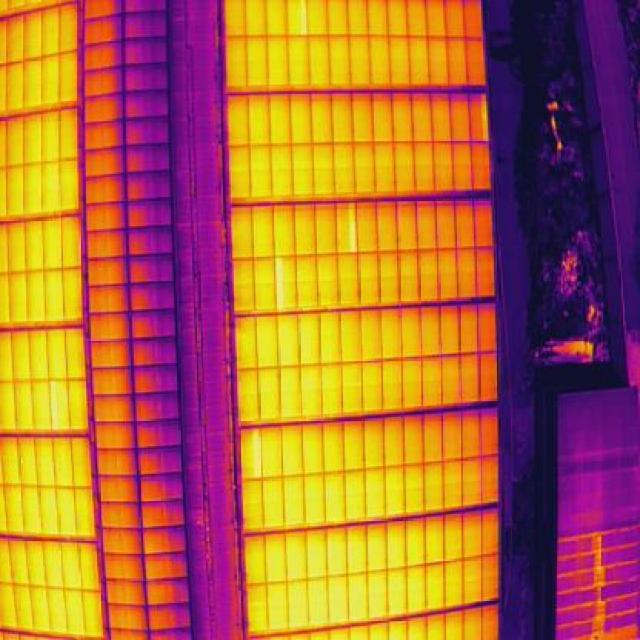panel: (242, 31, 273, 98), (219, 33, 251, 97), (262, 32, 294, 96), (284, 31, 314, 95), (303, 32, 333, 96), (325, 32, 355, 96), (344, 32, 374, 96), (365, 32, 395, 96), (384, 31, 414, 95), (404, 33, 434, 97), (271, 253, 301, 315), (293, 253, 323, 315), (234, 365, 262, 430), (255, 364, 283, 429), (277, 362, 305, 427), (298, 362, 326, 427), (355, 250, 385, 310), (334, 251, 363, 313), (425, 33, 453, 97), (226, 144, 254, 208), (247, 142, 275, 206), (268, 142, 296, 206), (288, 142, 316, 206), (310, 140, 338, 204), (330, 141, 358, 205), (350, 140, 378, 204), (371, 139, 399, 203), (132, 390, 183, 425), (131, 361, 182, 396), (84, 365, 135, 400), (130, 333, 181, 368), (85, 338, 136, 373), (128, 308, 179, 343), (83, 309, 134, 344), (127, 278, 178, 313), (80, 283, 131, 318), (228, 258, 258, 317), (249, 257, 279, 316), (58, 211, 87, 272), (442, 34, 471, 95), (56, 156, 84, 219), (391, 138, 419, 201), (411, 140, 439, 203), (22, 267, 49, 331), (462, 36, 490, 97), (314, 252, 342, 313), (318, 362, 346, 423), (339, 360, 367, 421), (359, 359, 387, 420), (102, 601, 152, 635), (146, 599, 196, 633), (143, 577, 193, 611), (431, 139, 457, 204), (264, 580, 293, 638), (284, 577, 313, 635), (305, 575, 334, 633), (324, 573, 353, 631), (345, 570, 374, 628), (363, 567, 392, 625), (382, 565, 411, 623), (239, 477, 267, 537), (260, 475, 288, 535), (280, 473, 308, 533), (301, 471, 329, 531), (322, 469, 350, 529), (343, 467, 371, 527), (134, 416, 182, 451), (92, 419, 140, 454), (90, 391, 138, 426), (46, 377, 73, 439), (66, 377, 93, 439), (233, 311, 260, 373), (82, 254, 131, 288), (127, 251, 176, 285), (125, 225, 174, 259), (81, 227, 130, 261), (82, 199, 131, 233), (123, 195, 172, 229), (123, 169, 172, 203), (122, 141, 171, 175), (121, 112, 170, 146), (121, 88, 170, 122), (121, 60, 170, 94), (120, 34, 169, 68), (72, 486, 101, 543), (308, 89, 337, 146), (287, 91, 316, 148), (227, 203, 256, 260), (55, 50, 82, 111), (379, 357, 406, 418), (400, 355, 427, 416), (140, 523, 188, 557), (98, 525, 146, 559), (94, 497, 142, 531), (142, 498, 190, 532), (139, 471, 187, 505), (136, 443, 184, 477), (94, 473, 142, 507), (61, 265, 86, 330), (1, 59, 28, 119), (3, 111, 30, 171), (19, 109, 46, 169), (39, 214, 66, 274), (20, 216, 47, 276), (2, 217, 29, 277), (5, 272, 32, 332), (376, 250, 403, 310), (396, 249, 423, 309), (415, 248, 442, 308), (435, 246, 462, 306), (453, 245, 480, 305), (473, 243, 500, 303), (38, 106, 64, 168), (55, 104, 81, 166), (4, 163, 30, 225), (20, 161, 46, 223), (39, 159, 65, 221), (42, 266, 67, 330), (25, 325, 52, 384), (9, 326, 36, 385), (53, 485, 80, 544), (38, 52, 64, 113), (419, 354, 445, 415), (438, 352, 464, 413), (457, 351, 483, 412), (80, 38, 124, 74), (283, 528, 311, 584), (262, 531, 290, 587), (241, 532, 269, 588), (243, 583, 271, 639), (271, 201, 298, 259), (250, 202, 277, 260), (304, 524, 331, 582), (363, 465, 389, 525), (383, 464, 409, 524), (401, 462, 427, 522), (422, 460, 448, 520), (440, 457, 466, 517), (459, 455, 485, 515), (450, 140, 475, 202), (468, 140, 493, 202), (364, 520, 392, 575), (345, 522, 373, 577), (324, 525, 352, 580), (68, 433, 95, 490), (299, 420, 326, 477), (280, 422, 307, 479), (257, 424, 284, 481), (238, 425, 265, 482), (122, 8, 170, 40), (63, 324, 89, 383), (43, 326, 69, 385), (437, 300, 463, 359), (417, 303, 443, 362), (399, 304, 425, 363), (378, 305, 404, 364), (358, 307, 384, 366), (337, 308, 363, 367), (318, 309, 344, 368), (297, 310, 323, 369), (276, 311, 302, 370), (253, 312, 279, 371), (79, 14, 124, 48), (21, 55, 46, 116), (267, 92, 294, 148), (245, 92, 272, 148), (333, 200, 360, 256), (313, 201, 340, 257), (292, 201, 319, 257), (319, 419, 346, 475), (101, 577, 148, 609), (100, 551, 147, 583), (142, 550, 189, 582), (29, 378, 54, 438), (478, 349, 503, 409), (465, 91, 493, 144), (446, 92, 474, 145), (427, 91, 455, 144), (408, 92, 436, 145), (224, 92, 250, 149), (12, 379, 37, 438), (51, 433, 76, 491), (404, 562, 429, 620), (422, 561, 447, 619), (442, 559, 467, 617), (460, 553, 485, 611), (479, 550, 504, 608), (15, 433, 41, 488), (394, 198, 420, 253), (374, 200, 400, 255), (354, 200, 380, 255), (329, 89, 354, 146), (471, 196, 496, 253), (459, 504, 484, 561), (478, 453, 502, 512), (479, 502, 503, 561), (77, 539, 103, 593), (389, 90, 414, 146), (370, 91, 395, 147), (477, 403, 502, 459), (460, 407, 485, 463), (439, 408, 464, 464), (420, 411, 445, 467), (401, 412, 426, 468), (382, 414, 407, 470), (362, 416, 387, 472), (94, 446, 139, 477), (38, 484, 62, 542), (19, 483, 43, 541), (1, 482, 25, 540), (30, 584, 55, 639), (11, 583, 36, 638), (349, 91, 374, 146), (341, 418, 366, 473), (441, 510, 466, 565), (423, 513, 448, 568), (403, 515, 428, 570), (475, 298, 498, 357), (457, 299, 480, 358), (23, 537, 49, 589), (40, 538, 66, 590), (452, 197, 477, 251), (433, 198, 458, 252), (414, 198, 439, 252), (6, 536, 32, 587), (59, 539, 84, 592), (81, 587, 106, 640), (62, 586, 87, 639), (32, 434, 56, 489), (384, 516, 408, 571), (39, 4, 63, 58), (57, 2, 81, 56), (46, 585, 70, 639), (3, 12, 27, 65), (20, 7, 44, 60), (1, 434, 24, 489)
